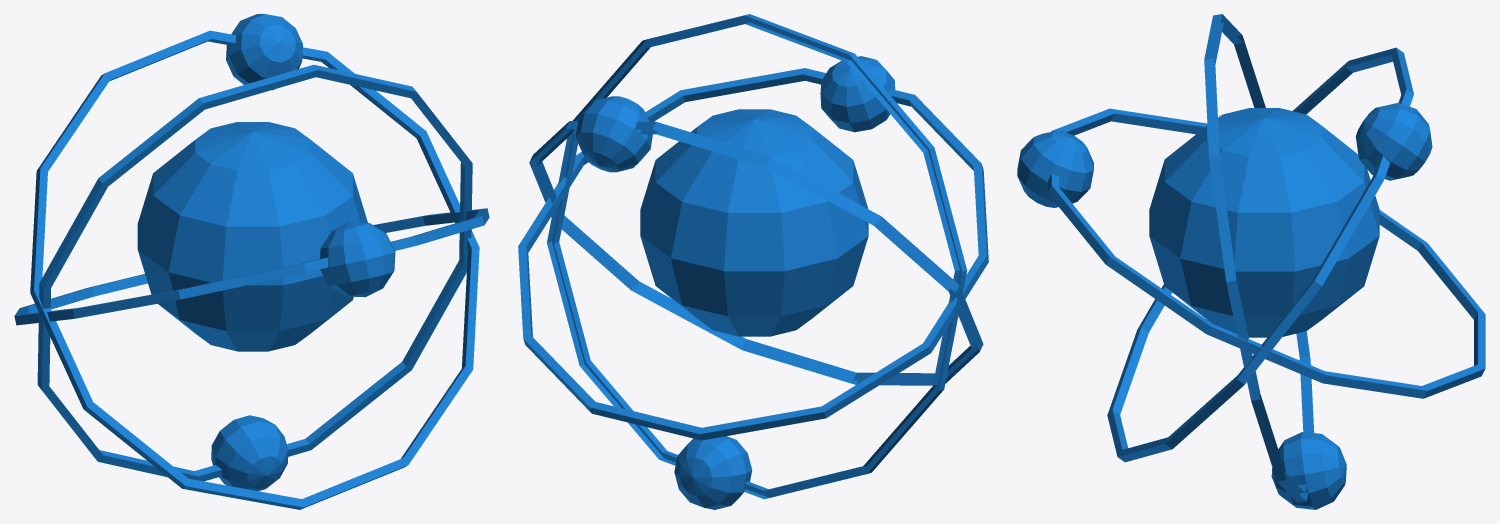
File: atomo.obj
The picture shows the model from 3 angles, left to right: view 1: azimuth 30°, elevation 25°; view 2: azimuth 150°, elevation 25°; view 3: azimuth 270°, elevation 25°; orthographic projection.
Parts seen in each view (by area): view 1: sphere, circle, atom1; view 2: circle, sphere, atom1; view 3: sphere, circle, atom1.
Boxes of the visible parts, x1,y1,x2,y2 form: sphere: [137, 122, 367, 351]; circle: [14, 30, 489, 509]; atom1: [211, 14, 395, 491]; circle: [518, 14, 988, 499]; sphere: [640, 109, 868, 336]; atom1: [575, 56, 895, 509]; sphere: [1149, 108, 1379, 337]; circle: [1047, 14, 1485, 502]; atom1: [1017, 103, 1432, 509].
Size of the model in its own units: 0.7999 by 0.8177 by 0.7619.
